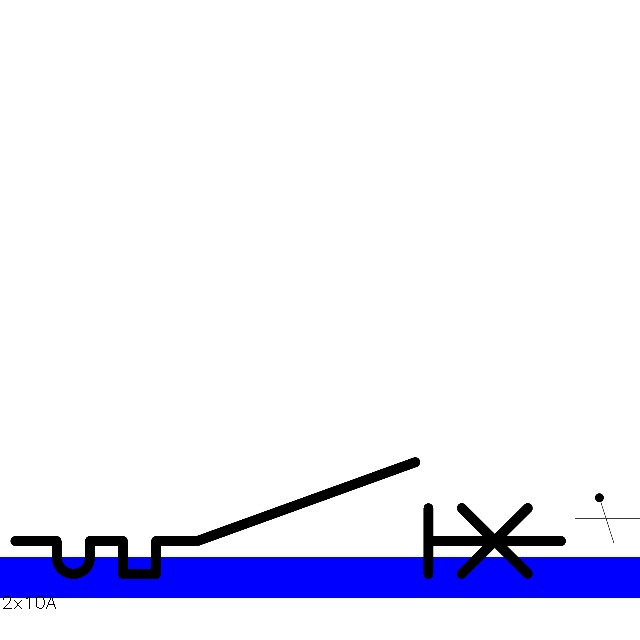interruptor_termomagnetico: (1, 448, 575, 588)
